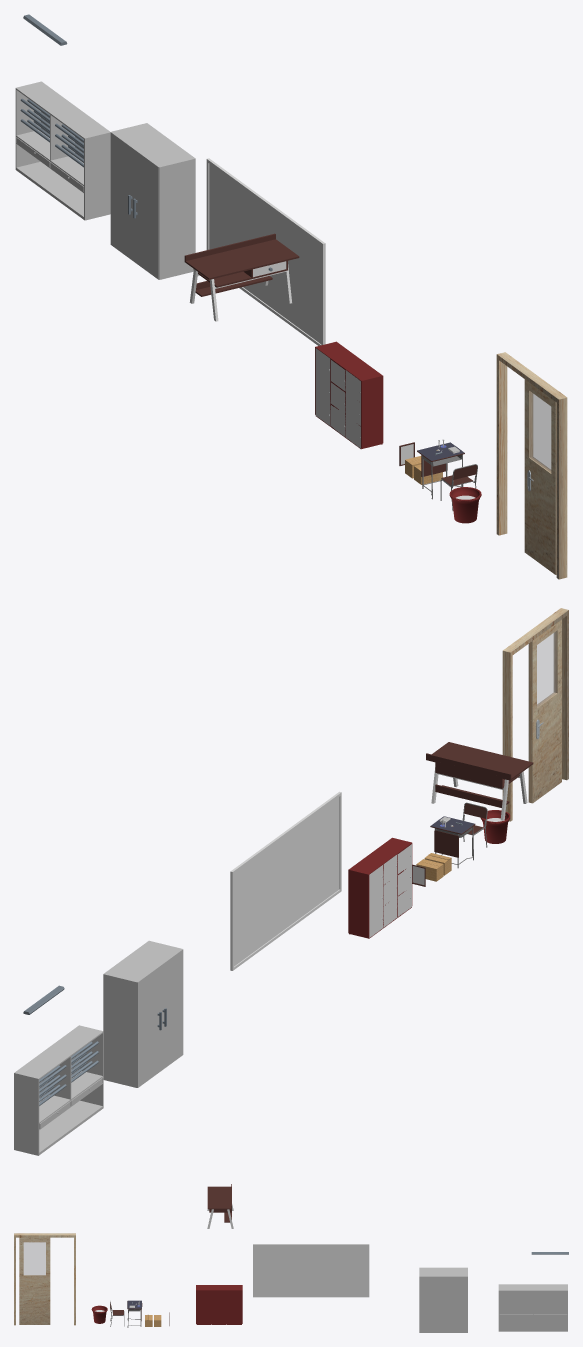
File: Meja Kantor.fbx
The picture shows the model from 3 angles, top to bottom: view 1: azimuth 30°, elevation 25°; view 2: azimuth 150°, elevation 25°; view 3: azimuth 270°, elevation 25°; orthographic projection. The views are drawn at different scales.
Visible parts, largest first — view 1: Cube.005, Lemari_02, Lemari01, Door, Ceilling, Loker, Meja Atas, Cube.018, Cube.012, Cylinder.021, Table01, Ember; view 2: Cube.005, Lemari_02, Door, Lemari01, Ceilling, Loker, Cube.012, Cube.018, Meja Atas, Cylinder.021, Table01, kerangka_belakang_rak.001 (+1 smaller); view 3: Cube.005, Lemari_02, Lemari01, Door, Loker, Ceilling, Meja Atas, Ember, Table01.
Part boxes in pixels (x1,y1,x2,y2): Cube.005: [206, 158, 325, 345]; Lemari_02: [15, 81, 110, 220]; Lemari01: [111, 123, 195, 279]; Door: [524, 379, 556, 574]; Ceilling: [496, 352, 567, 579]; Loker: [315, 341, 383, 449]; Meja Atas: [184, 233, 299, 279]; Cube.018: [135, 149, 159, 279]; Cube.012: [110, 132, 136, 262]; Cylinder.021: [20, 98, 83, 167]; Table01: [417, 442, 464, 499]; Ember: [449, 487, 481, 523]; Cube.005: [230, 791, 341, 970]; Lemari_02: [14, 1025, 103, 1155]; Door: [528, 619, 561, 803]; Lemari01: [103, 940, 181, 1087]; Ceilling: [502, 608, 568, 821]; Loker: [348, 837, 412, 938]; Cube.012: [136, 965, 160, 1087]; Cube.018: [159, 949, 183, 1070]; Meja Atas: [426, 742, 533, 780]; Cylinder.021: [39, 1041, 98, 1105]; Table01: [430, 816, 475, 868]; kerangka_belakang_rak.001: [435, 762, 519, 788]; Cube.005: [253, 1244, 369, 1297]; Lemari_02: [498, 1284, 567, 1331]; Lemari01: [419, 1267, 467, 1332]; Door: [19, 1237, 50, 1324]; Loker: [196, 1285, 242, 1324]; Ceilling: [14, 1233, 75, 1325]; Meja Atas: [207, 1184, 231, 1209]; Ember: [91, 1305, 107, 1323]; Table01: [127, 1300, 142, 1327].
Bounding box in the file's own units: 461 × 450 × 2236.
